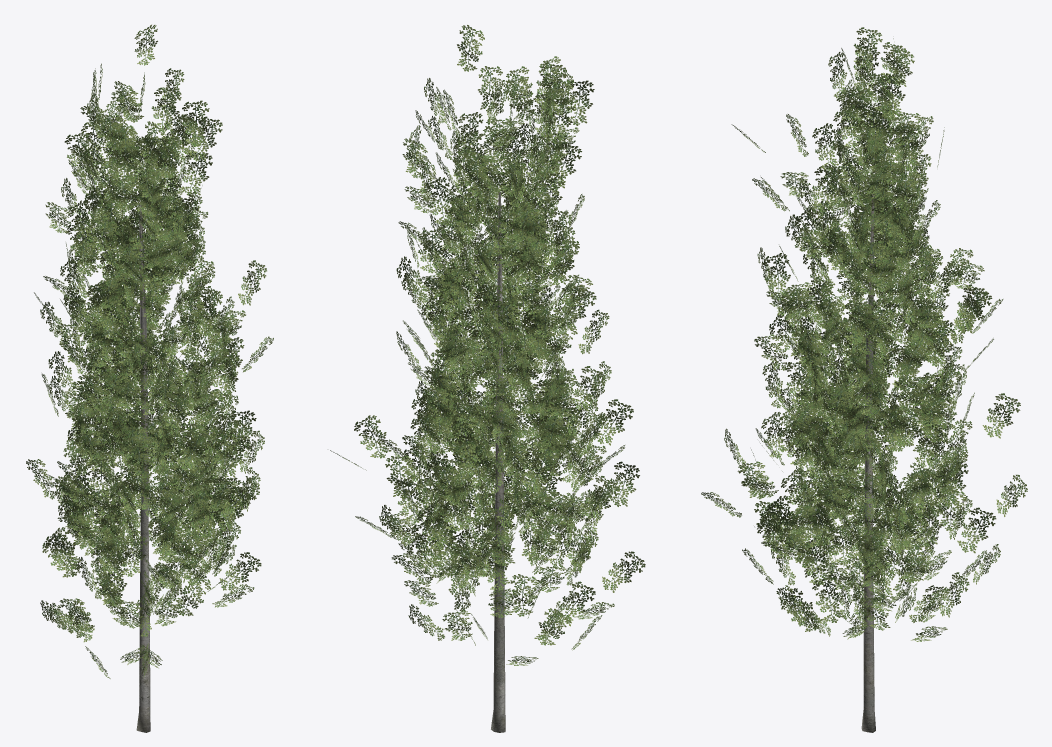
File: defaultbeecheuropean.glb
3 renders of one model, left to right at view 1: azimuth 30°, elevation 25°; view 2: azimuth 150°, elevation 25°; view 3: azimuth 270°, elevation 25°, orthographic. The views are drawn at different scales.
Parts seen in each view (by area): view 1: DefaultBeechEuropean; view 2: DefaultBeechEuropean; view 3: DefaultBeechEuropean.
Boxes of the visible parts, x1=… form: DefaultBeechEuropean: x1=26, y1=24, x2=273, y2=732; DefaultBeechEuropean: x1=330, y1=25, x2=645, y2=732; DefaultBeechEuropean: x1=701, y1=27, x2=1027, y2=732.
Bounding box in the file's own units: 12.16 × 30 × 13.41.
Materials: 2 (2 with a texture image).
